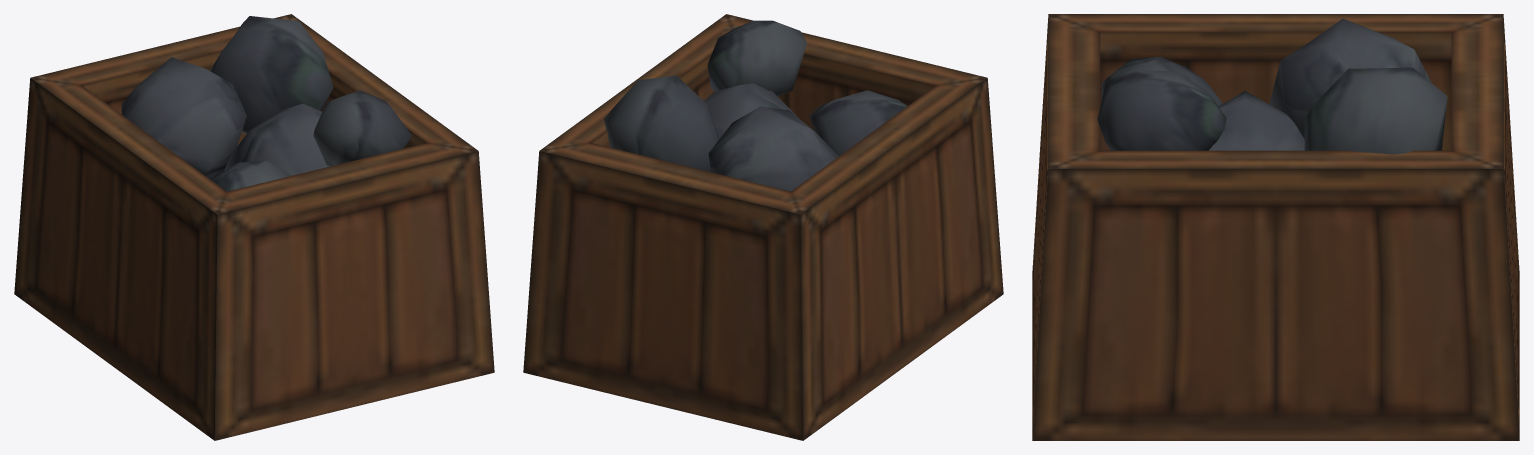
The model's file is 2_YiZhan_PaoDan_01.FBX.
3 renders of one model, left to right at view 1: azimuth 30°, elevation 25°; view 2: azimuth 150°, elevation 25°; view 3: azimuth 270°, elevation 25°, orthographic. The views are drawn at different scales.
Visible parts, largest first — view 1: 2_YiZhan_PaoDan_01; view 2: 2_YiZhan_PaoDan_01; view 3: 2_YiZhan_PaoDan_01.
Part boxes in pixels (x1=…): 2_YiZhan_PaoDan_01: x1=14, y1=14, x2=494, y2=440; 2_YiZhan_PaoDan_01: x1=523, y1=14, x2=1003, y2=440; 2_YiZhan_PaoDan_01: x1=1032, y1=14, x2=1519, y2=440.
Size of the model in its own units: 102 by 92.79 by 127.
